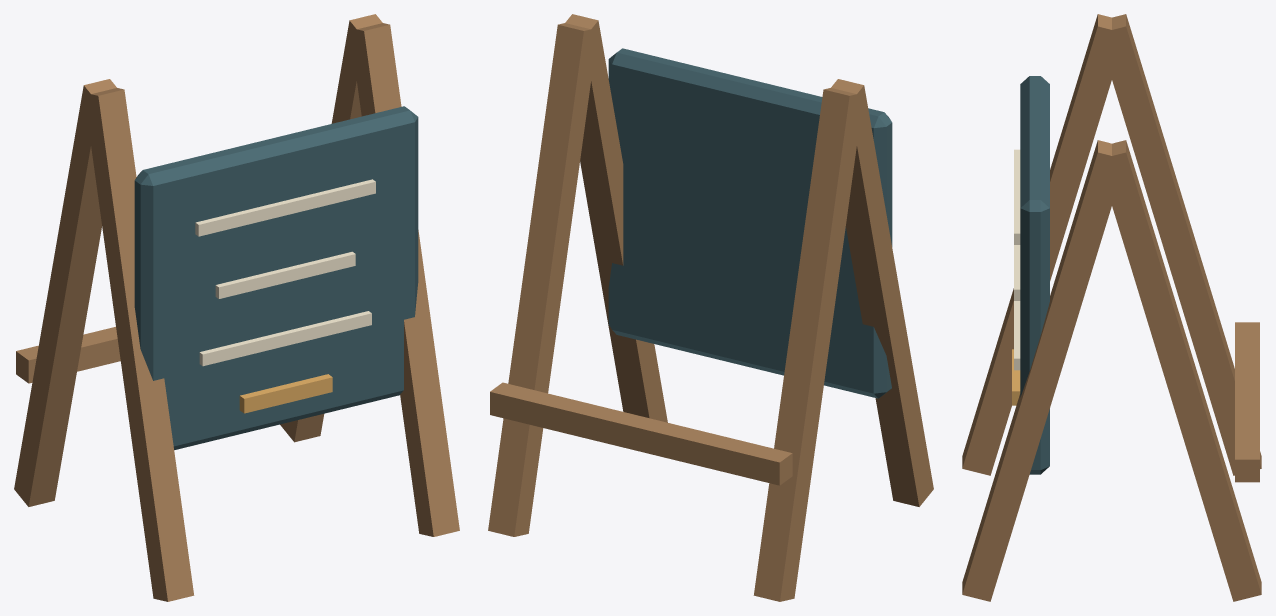
File: AC_Market_Menu_Board.glb
The picture shows the model from 3 angles, left to right: view 1: azimuth 30°, elevation 25°; view 2: azimuth 150°, elevation 25°; view 3: azimuth 270°, elevation 25°; orthographic projection. The views are drawn at different scales.
Visible parts, largest first — view 1: AC_Market_Menu_Board; view 2: AC_Market_Menu_Board; view 3: AC_Market_Menu_Board.
Boxes of the visible parts, x1,y1,x2,y2 form: AC_Market_Menu_Board: (14, 14, 459, 601); AC_Market_Menu_Board: (488, 14, 933, 601); AC_Market_Menu_Board: (962, 14, 1261, 601).
Bounding box in the file's own units: 0.725 × 1.1 × 0.6626.
